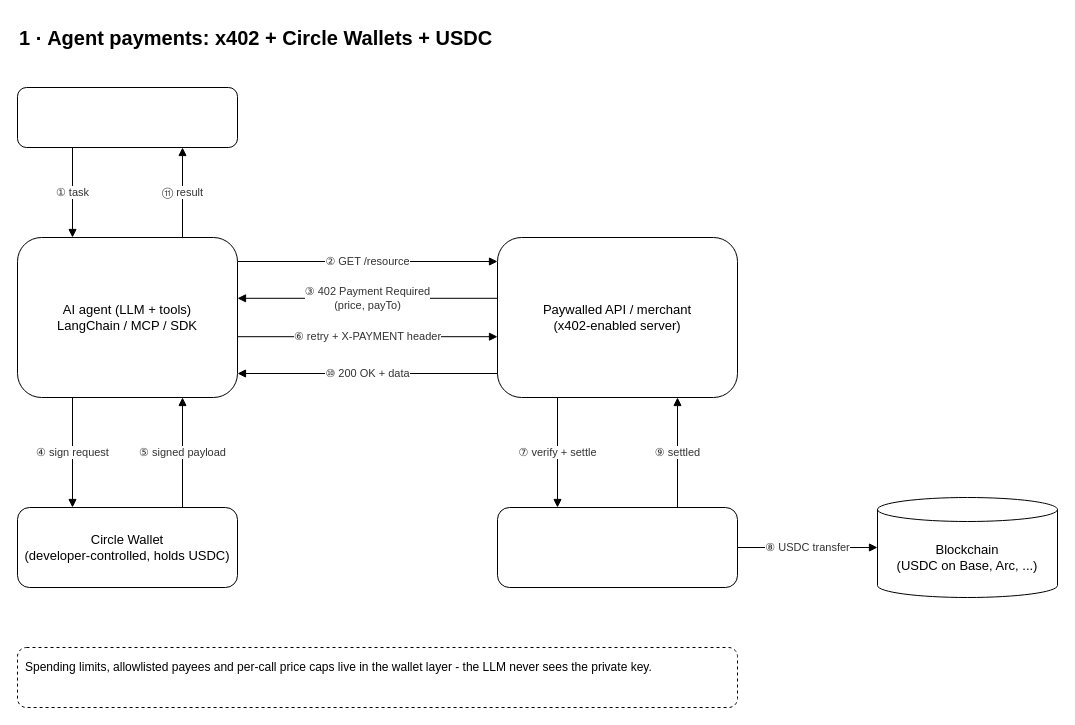
The diagram is 1075 pixels wide and 725 high, and some of its shapes have lost their labels. The shapes that lost their labels are listed below. From the top down, each one's centre as x and y in pixels, then its label:
At (127,117): "User / operator".
At (617,547): "Facilitator / Circle Gateway verifies + settles payments".
